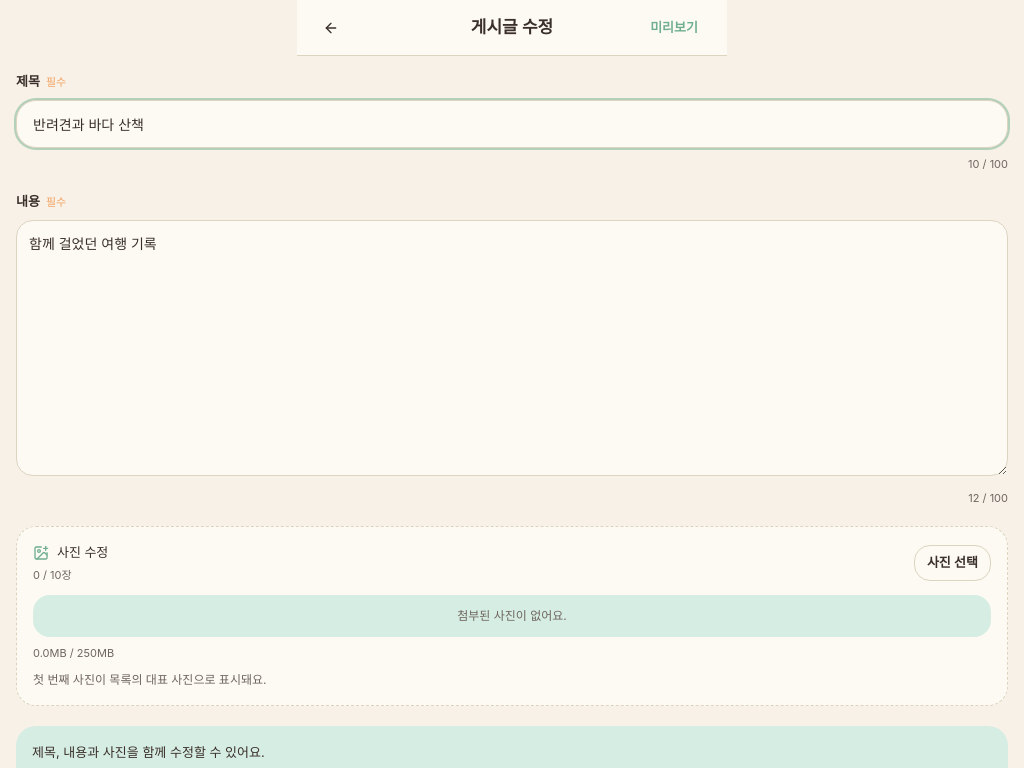
Test: free-board post editor › keeps edited text after a failed update and retries without sending photo data
Later steps or results of the test are not shown.
Replace the text in the field labelled "제목" with "수정한 제목". click: [512, 124]
box: top-left (16, 100), bottom-right (1008, 148)
(page scrolled)
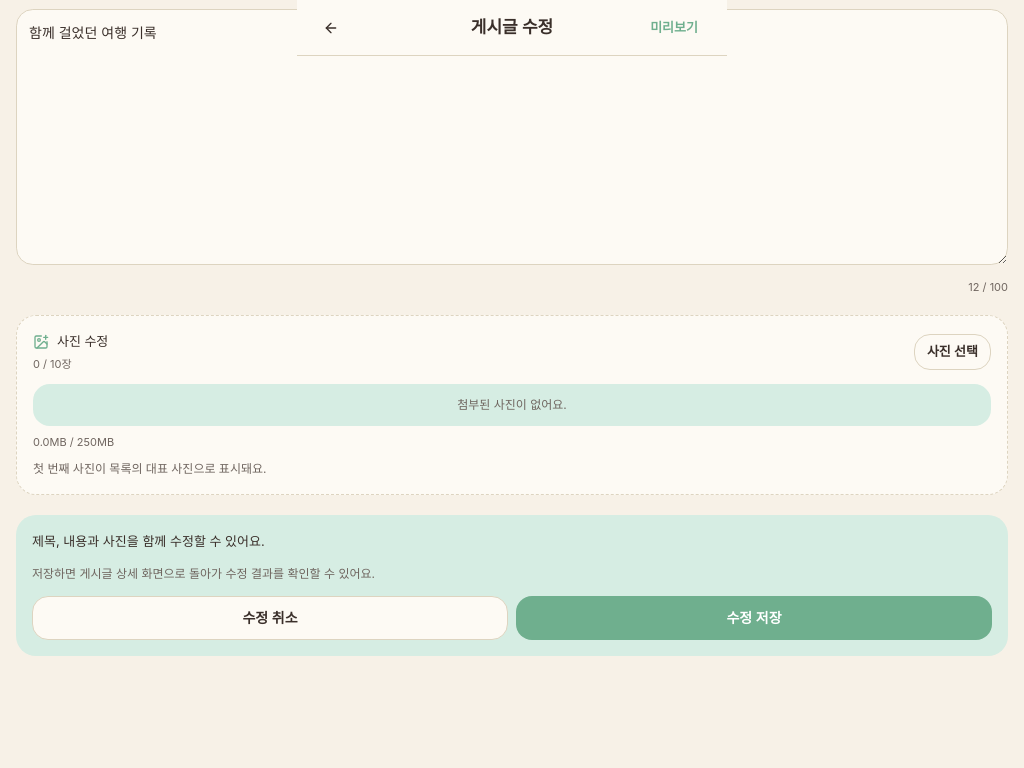
Click the button "수정 저장". click: [754, 618]
box: top-left (516, 596), bottom-right (992, 640)
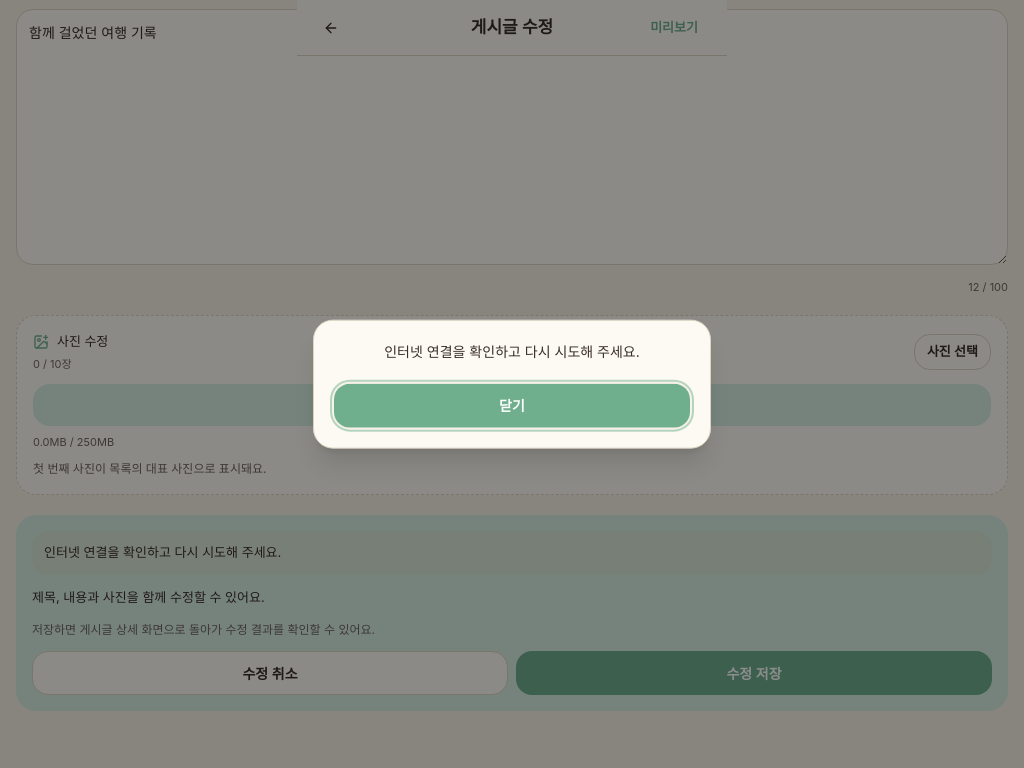
Check: the dialog shows "인터넷 연결", box top-left (384, 343), bottom-right (640, 360)
